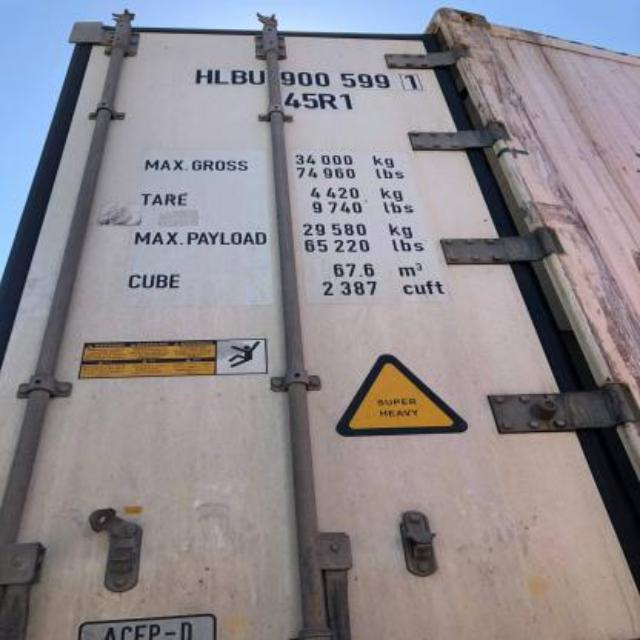0: (313, 65, 331, 91), (298, 66, 312, 90)
1: (398, 67, 419, 91)
5: (340, 68, 356, 92)
9: (276, 67, 296, 91), (357, 70, 373, 92), (376, 68, 390, 90)
B: (229, 63, 245, 87)
H: (192, 69, 214, 87)
L: (214, 64, 230, 90)
U: (247, 61, 270, 93)
